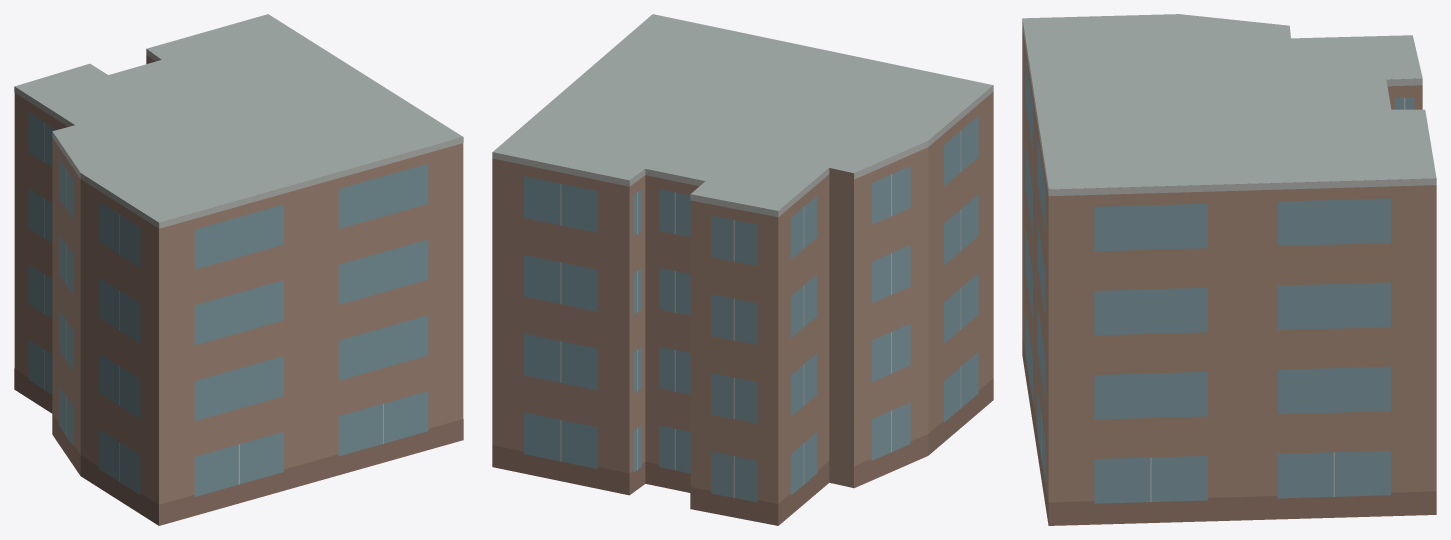
File: survey-upis-32620211.glb
The picture shows the model from 3 angles, left to right: view 1: azimuth 30°, elevation 25°; view 2: azimuth 150°, elevation 25°; view 3: azimuth 270°, elevation 25°; orthographic projection. The views are drawn at different scales.
Visible parts, largest first — view 1: survey-upis-32620211.tmp; view 2: survey-upis-32620211.tmp; view 3: survey-upis-32620211.tmp.
Part boxes in pixels (x1,y1,x2,y2): survey-upis-32620211.tmp: (14,14,463,525); survey-upis-32620211.tmp: (492,14,993,525); survey-upis-32620211.tmp: (1022,14,1436,525).
Size of the model in its own units: 13.6 by 12.15 by 13.57.
